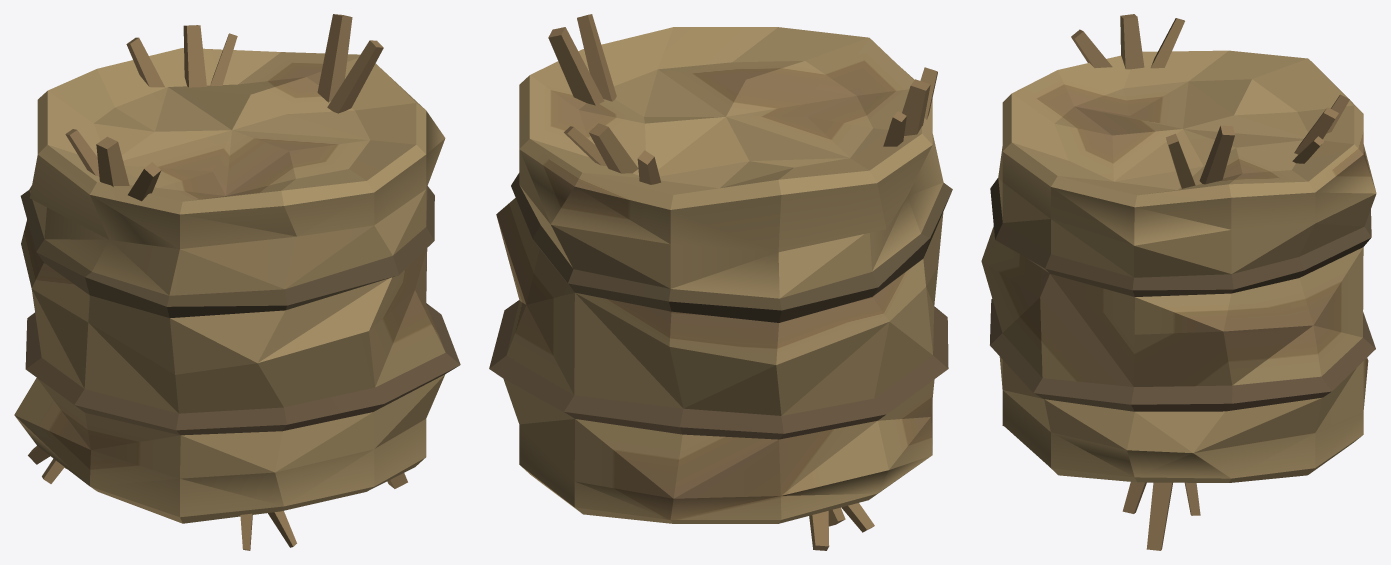
File: hay-bale.glb
3 renders of one model, left to right at view 1: azimuth 30°, elevation 25°; view 2: azimuth 150°, elevation 25°; view 3: azimuth 270°, elevation 25°, orthographic. The views are drawn at different scales.
Visible parts, largest first — view 1: SM_Prop_Hay_Bale_Round_01; view 2: SM_Prop_Hay_Bale_Round_01; view 3: SM_Prop_Hay_Bale_Round_01.
Part boxes in pixels (x1=…): SM_Prop_Hay_Bale_Round_01: x1=14, y1=14, x2=460, y2=550; SM_Prop_Hay_Bale_Round_01: x1=489, y1=14, x2=952, y2=550; SM_Prop_Hay_Bale_Round_01: x1=981, y1=14, x2=1376, y2=550.
Size of the model in its own units: 130 by 147 by 126.
Materials: 1 (1 with a texture image).
